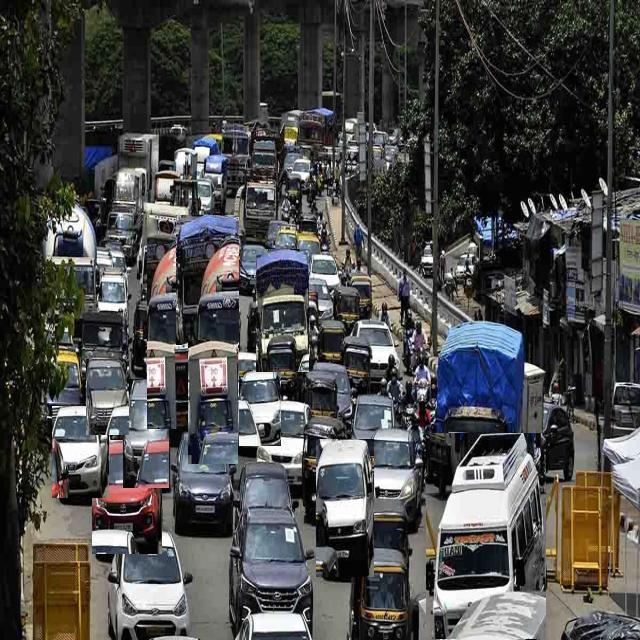autorickshaw: (348, 547, 409, 639), (301, 418, 345, 522)
bus: (426, 433, 546, 639)
car: (229, 509, 314, 633), (108, 533, 192, 640), (92, 440, 162, 554), (316, 440, 374, 577), (172, 431, 235, 534), (369, 429, 421, 531), (52, 406, 109, 498), (124, 380, 169, 488), (256, 400, 310, 484), (86, 360, 129, 435), (239, 371, 281, 446), (352, 322, 400, 384)
truck: (148, 245, 217, 429), (176, 215, 239, 345), (256, 249, 309, 372), (189, 340, 238, 464)
